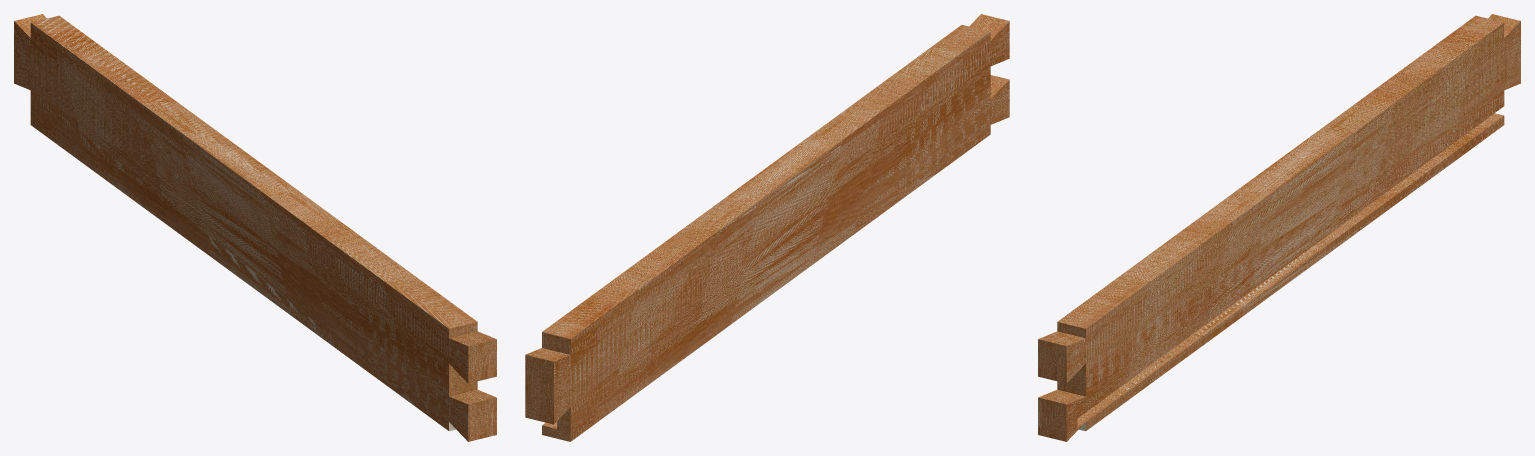
Rendered from original-48.obj.
3 views of the same model, side by side, from view 1: azimuth 30°, elevation 25°; view 2: azimuth 150°, elevation 25°; view 3: azimuth 330°, elevation 25° (orthographic).
Visible parts, largest first — view 1: Drawer_side4/Drawer_side12/mesh44/mesh44-geometry#mesh44-geometr; view 2: Drawer_side4/Drawer_side12/mesh44/mesh44-geometry#mesh44-geometr; view 3: Drawer_side4/Drawer_side12/mesh44/mesh44-geometry#mesh44-geometr.
Part boxes in pixels (<box>): Drawer_side4/Drawer_side12/mesh44/mesh44-geometry#mesh44-geometr: <box>14,14,496,441</box>; Drawer_side4/Drawer_side12/mesh44/mesh44-geometry#mesh44-geometr: <box>525,14,1009,441</box>; Drawer_side4/Drawer_side12/mesh44/mesh44-geometry#mesh44-geometr: <box>1038,14,1520,441</box>.
Size of the model in its own units: 0.02 by 0.0683 by 0.5482.
2 materials, 1 textured.
